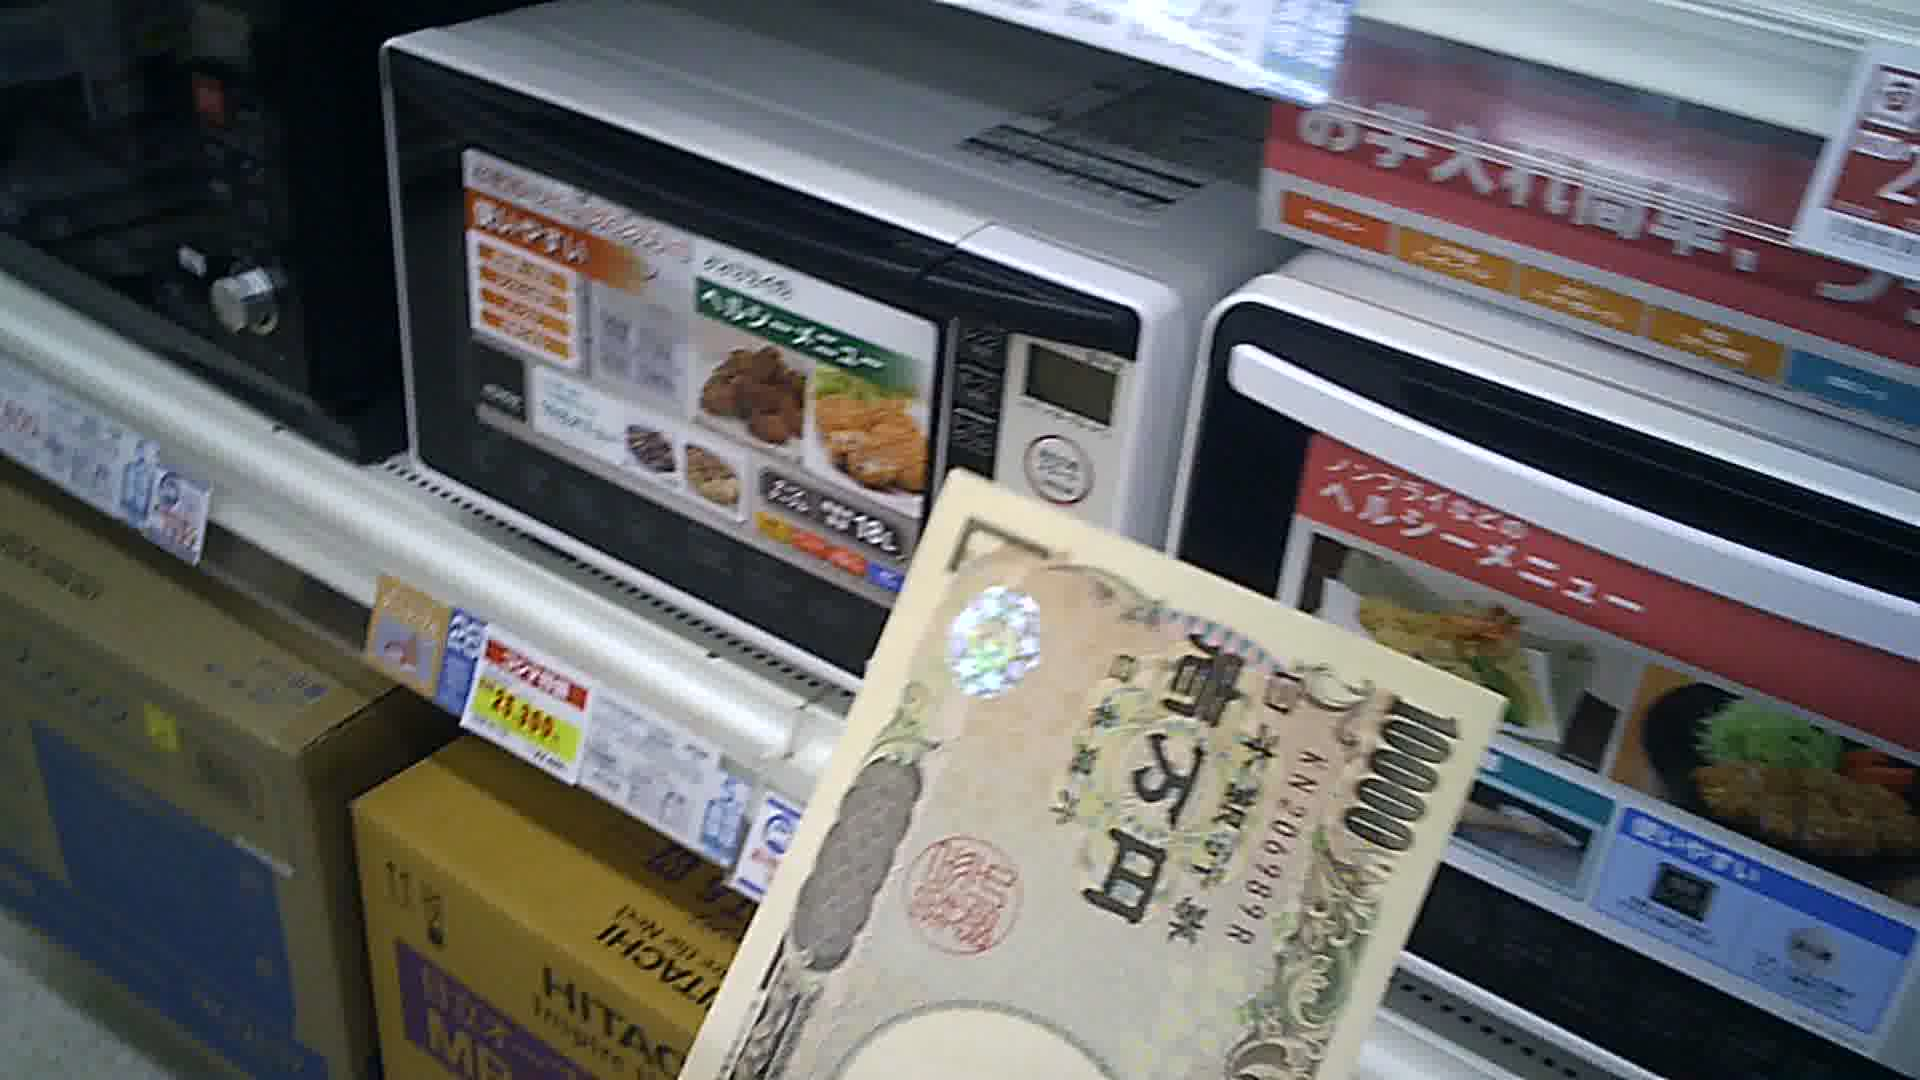10,000 Yen: (669, 454, 1503, 1079)
